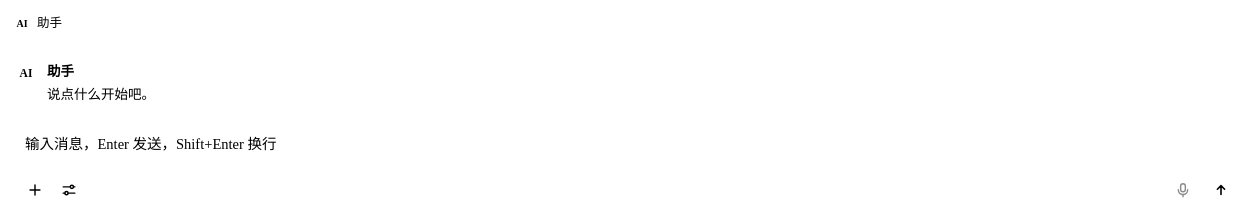
Test: 菜单 › / 列出 harnix.hello 里引擎支持的命令；回车选中
The width and height of the screenshot is (1254, 215).
Type "/co" into the text box with test id "conv-input". click: (631, 149)
box: [25, 130, 1237, 168]
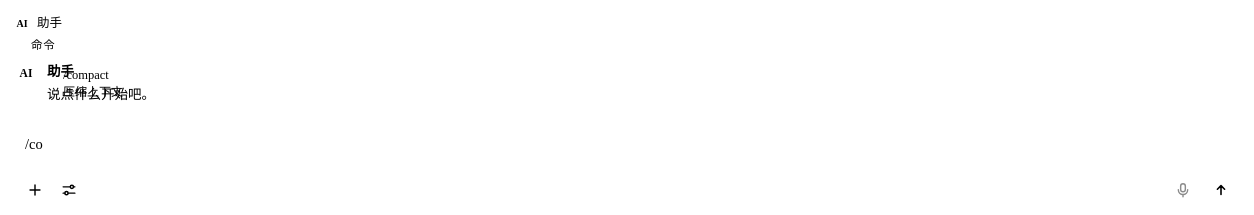
Press Enter in the text box with test id "conv-input", box [25, 130, 1237, 168]
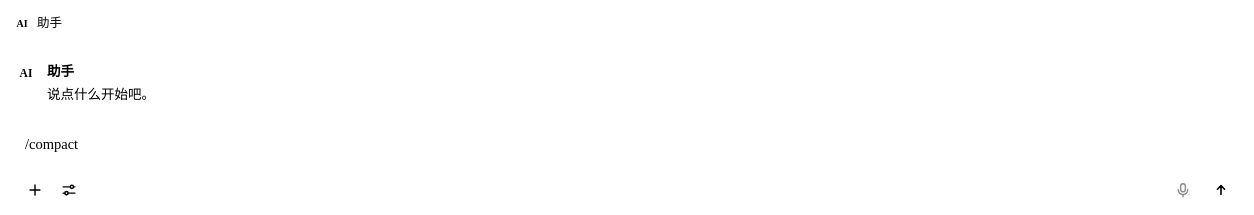
Check: the text box with test id "conv-input" holds "/compact ", box [25, 130, 1237, 168]
Check: the list with test id "conv-menu" is gone
